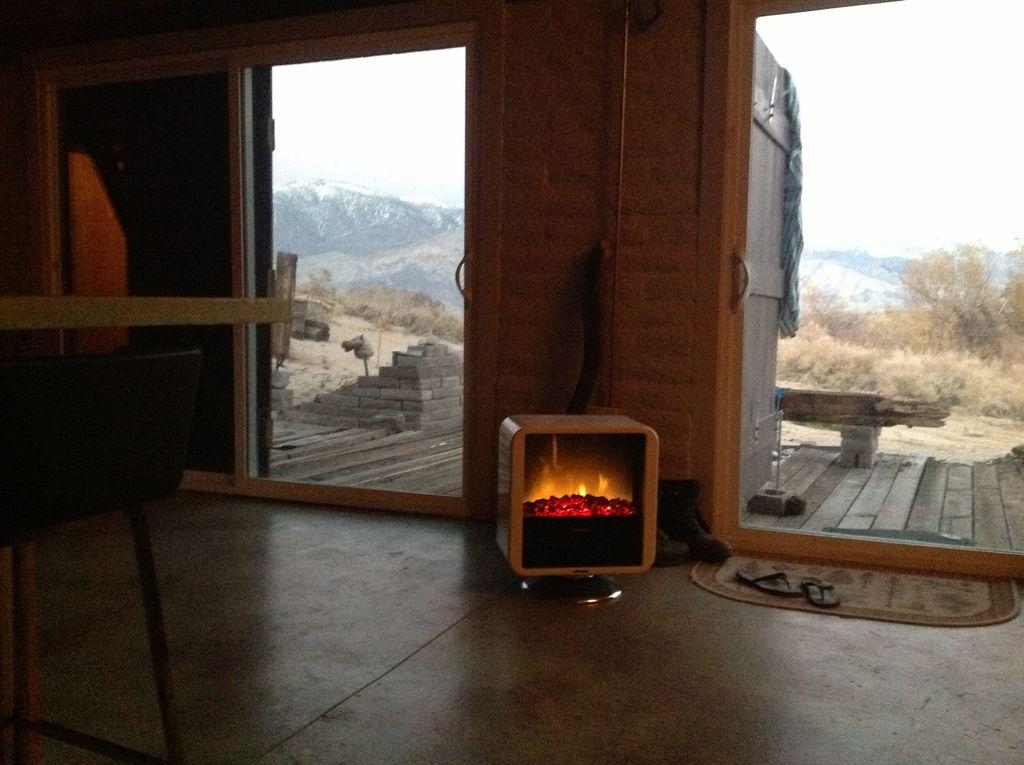Fire: (528, 467, 634, 518)
